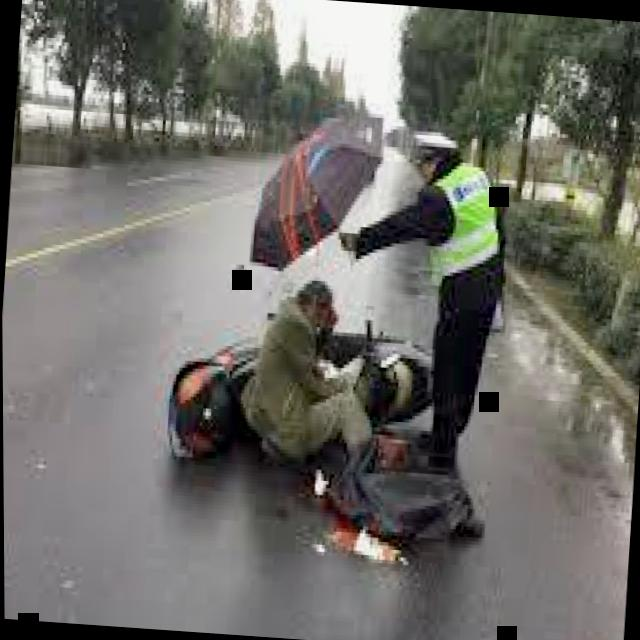Fall-Detected: (231, 247, 412, 478)
